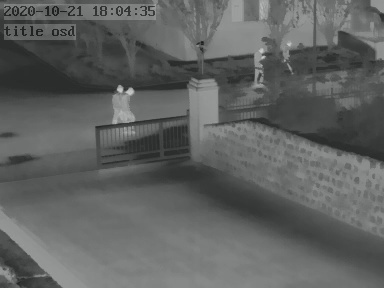person: (109, 84, 124, 127), (123, 86, 135, 129), (253, 47, 265, 87), (282, 39, 293, 71)
